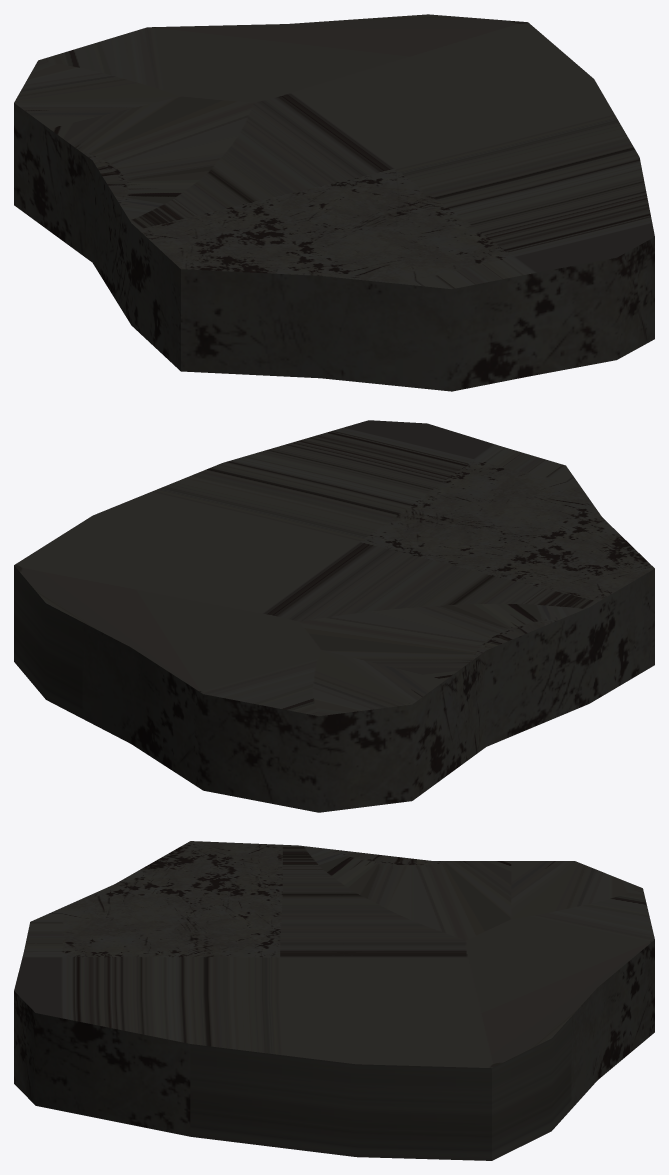
File: Rubble06.FBX
The picture shows the model from 3 angles, top to bottom: view 1: azimuth 30°, elevation 25°; view 2: azimuth 150°, elevation 25°; view 3: azimuth 270°, elevation 25°; orthographic projection. The views are drawn at different scales.
Parts seen in each view (by area): view 1: Rubbles004; view 2: Rubbles004; view 3: Rubbles004.
Part boxes in pixels (box(x1,y1,x2,y2)): Rubbles004: box(14, 14, 654, 391); Rubbles004: box(14, 420, 654, 812); Rubbles004: box(14, 841, 654, 1160).
Size of the model in its own units: 9449 by 1800 by 11267.
